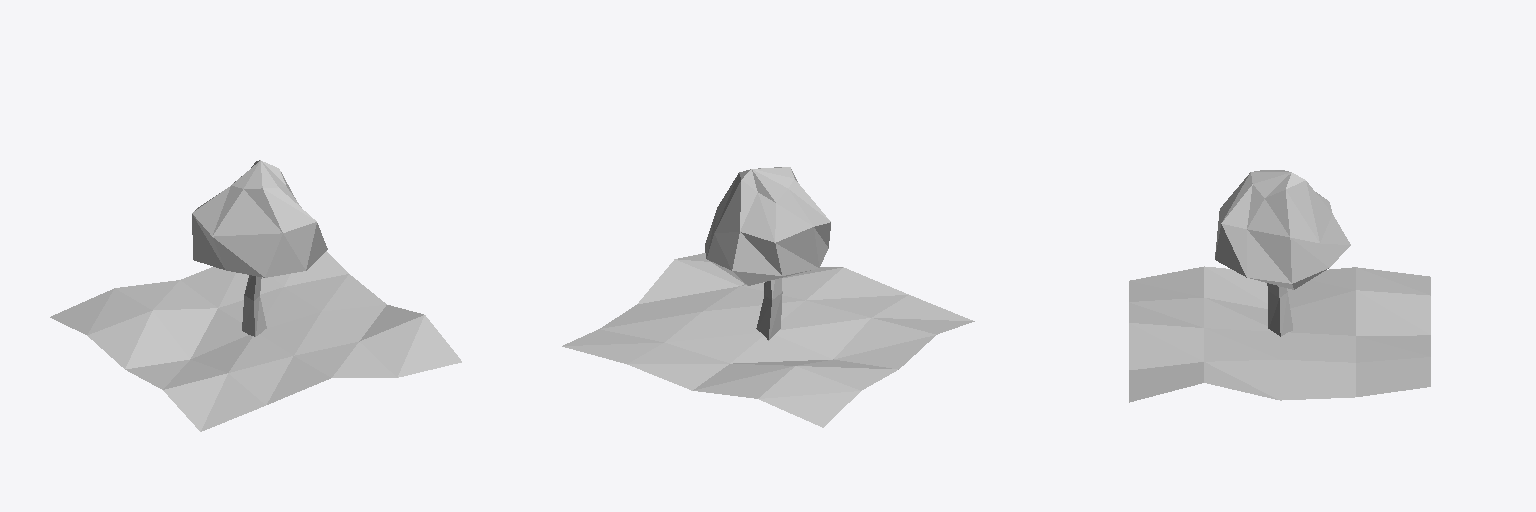
The picture shows the model from 3 angles: view 1: azimuth 30°, elevation 25°; view 2: azimuth 150°, elevation 25°; view 3: azimuth 270°, elevation 25°; orthographic projection.
Parts seen in each view (by area): view 1: sol, arbre_feuillage, arbre_tronc; view 2: sol, arbre_feuillage, arbre_tronc; view 3: sol, arbre_feuillage, arbre_tronc.
Boxes of the visible parts, x1,y1,x2,y2 form: sol: [50, 251, 461, 431]; arbre_feuillage: [192, 160, 327, 277]; arbre_tronc: [242, 275, 266, 336]; sol: [562, 253, 974, 427]; arbre_feuillage: [705, 167, 830, 285]; arbre_tronc: [756, 278, 782, 340]; sol: [1129, 266, 1430, 402]; arbre_feuillage: [1215, 170, 1350, 289]; arbre_tronc: [1267, 283, 1292, 336].
Size of the model in its own units: 400 by 259 by 400.